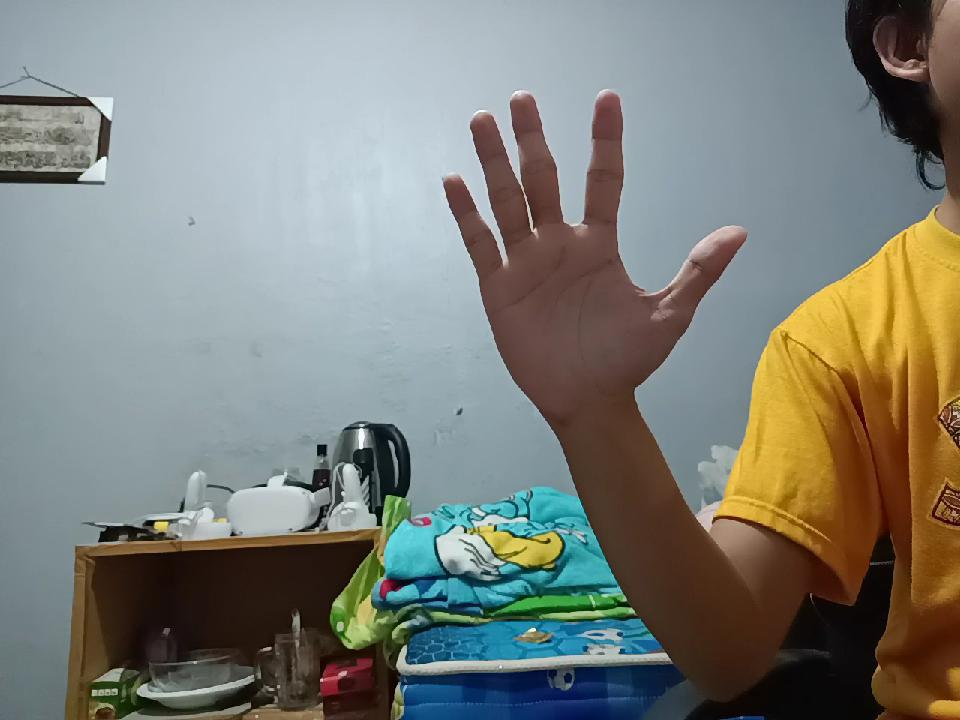paper: (457, 73, 739, 403)
